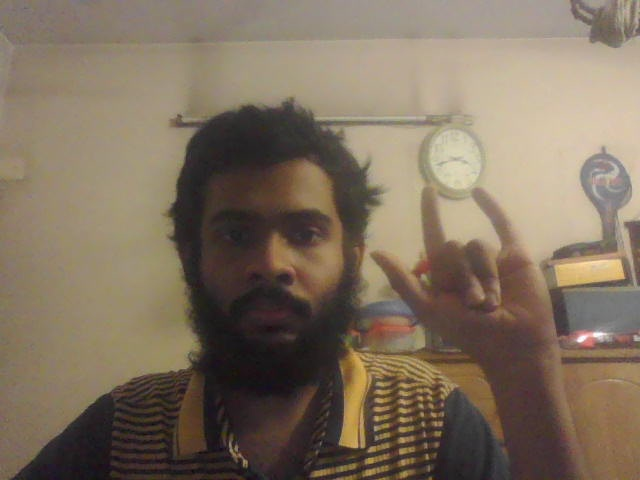I Love You: (369, 186, 573, 357)
